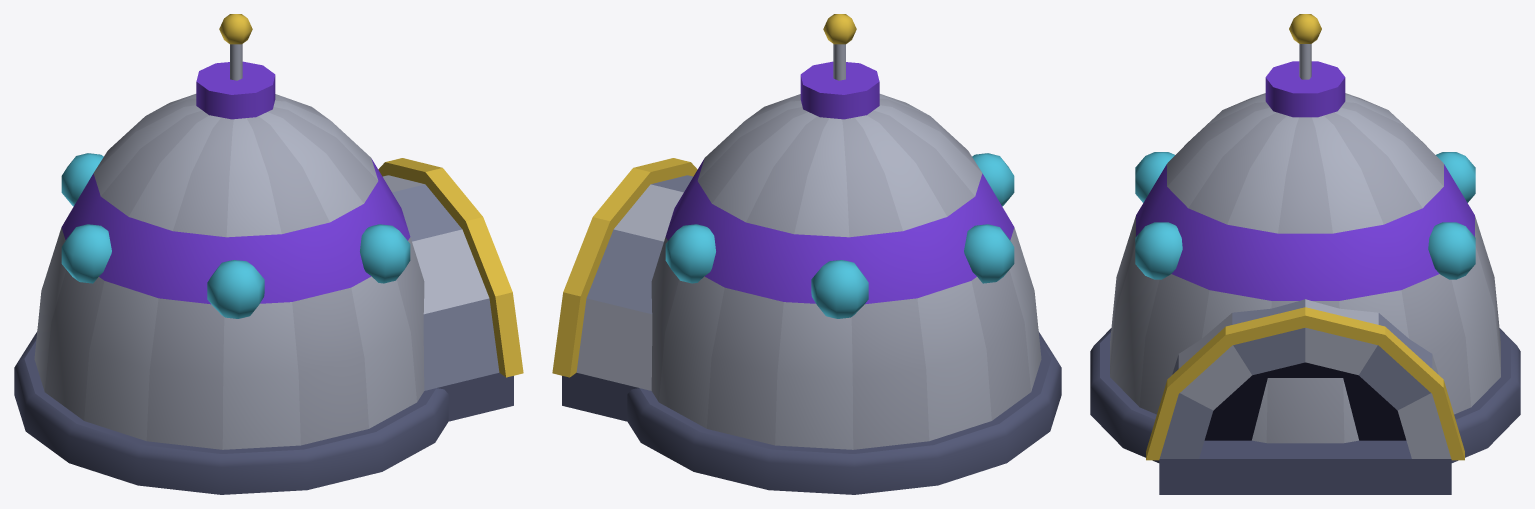
File: space-hide.glb
3 views of the same model, side by side, from view 1: azimuth 30°, elevation 25°; view 2: azimuth 150°, elevation 25°; view 3: azimuth 270°, elevation 25° (orthographic).
Visible parts, largest first — view 1: space-hide; view 2: space-hide; view 3: space-hide.
Boxes of the visible parts, left/top/right/bottom form: space-hide: left=14, top=14, right=523, bottom=494; space-hide: left=552, top=14, right=1061, bottom=494; space-hide: left=1090, top=14, right=1520, bottom=494.
Size of the model in its own units: 1.36 by 1.27 by 1.29.
